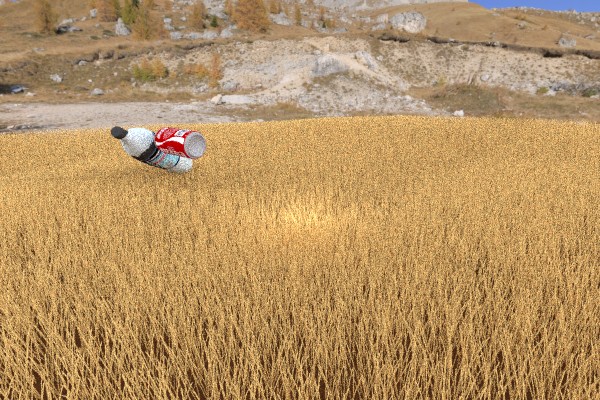bottle: (110, 126, 192, 174)
can: (153, 127, 206, 159)
